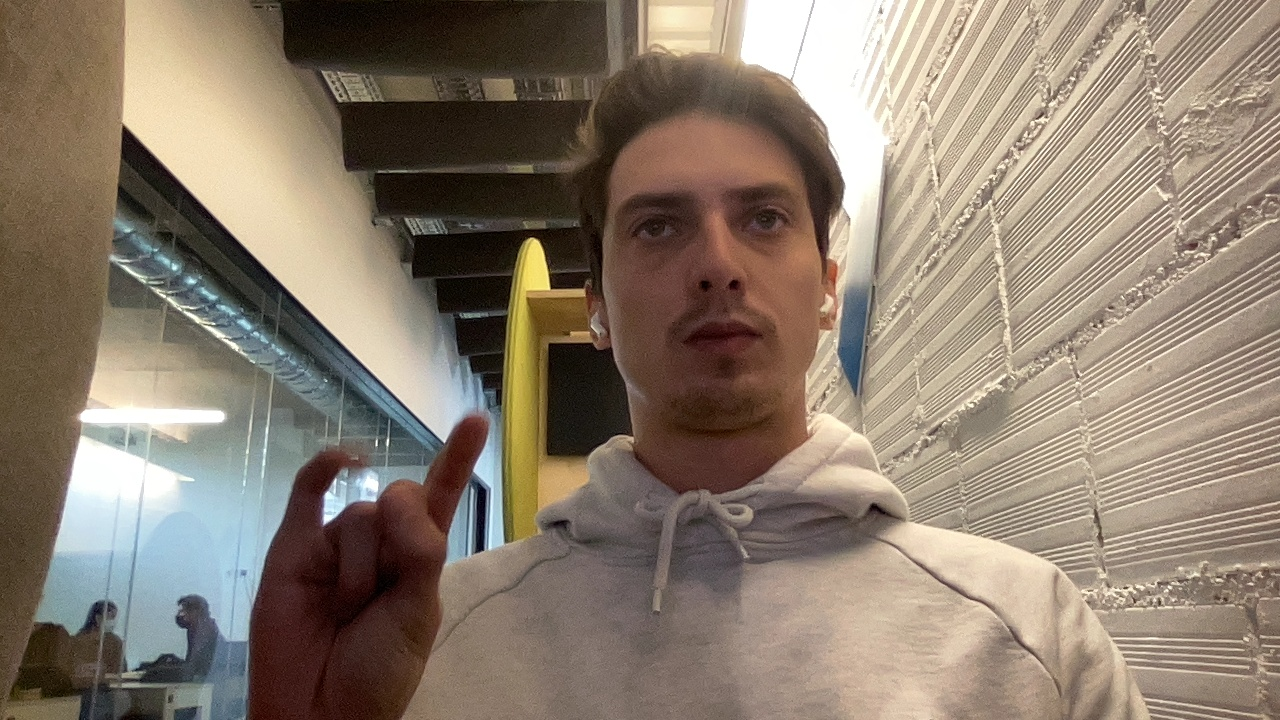iloveyou: (228, 394, 479, 706)
